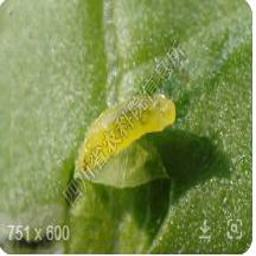liriomyza: (75, 91, 176, 171)
